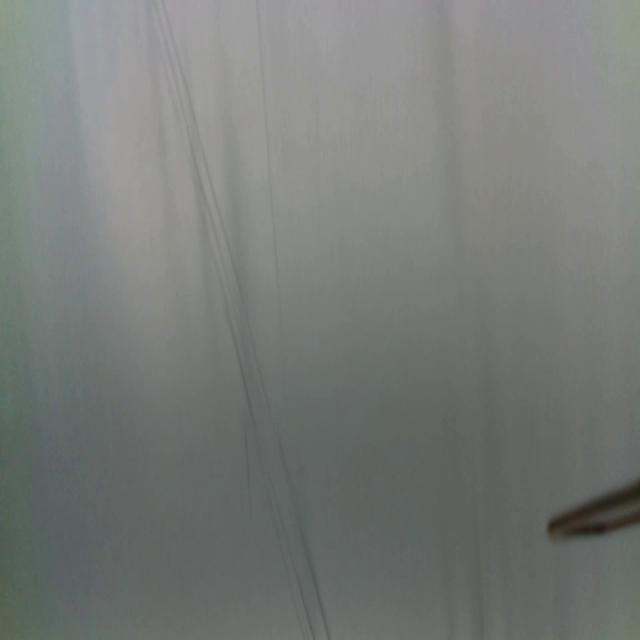crease: (152, 0, 331, 640), (255, 0, 279, 287)
